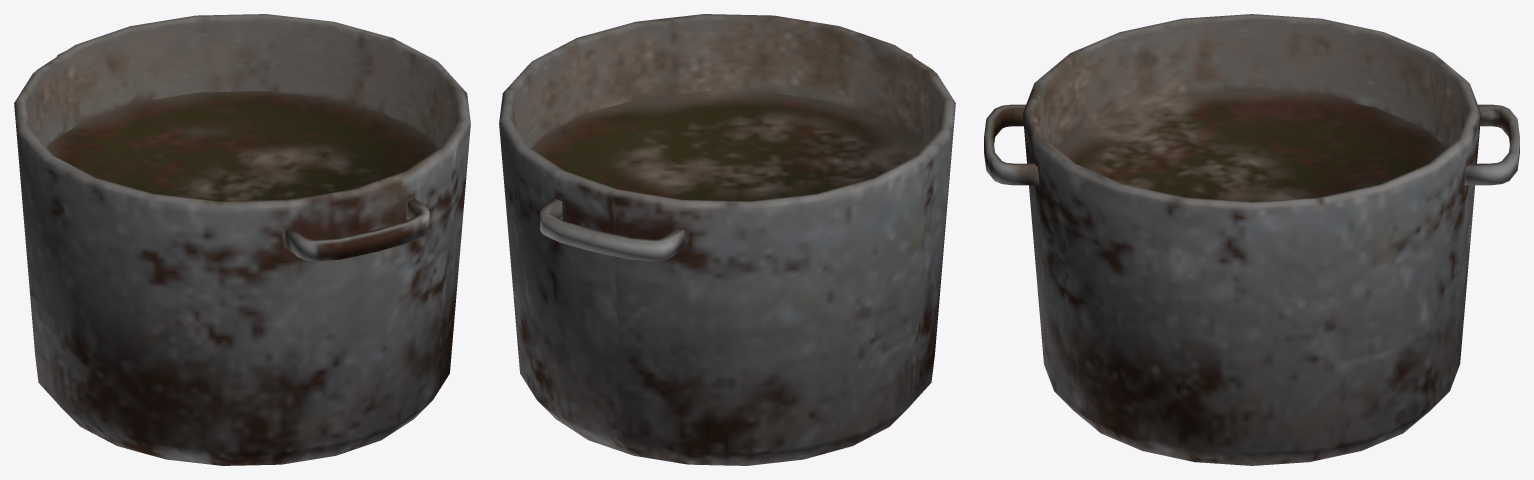
File: CookingPotDirty.glb
The picture shows the model from 3 angles, left to right: view 1: azimuth 30°, elevation 25°; view 2: azimuth 150°, elevation 25°; view 3: azimuth 270°, elevation 25°; orthographic projection.
Parts seen in each view (by area): view 1: CookingPotDirty; view 2: CookingPotDirty; view 3: CookingPotDirty.
Boxes of the visible parts, box(x1,y1,x2,y2) form: CookingPotDirty: box(14, 14, 470, 465); CookingPotDirty: box(499, 14, 955, 465); CookingPotDirty: box(984, 14, 1519, 465).
Bounding box in the file's own units: 0.5991 × 0.4012 × 0.7002.
Materials: 1 (1 with a texture image).
